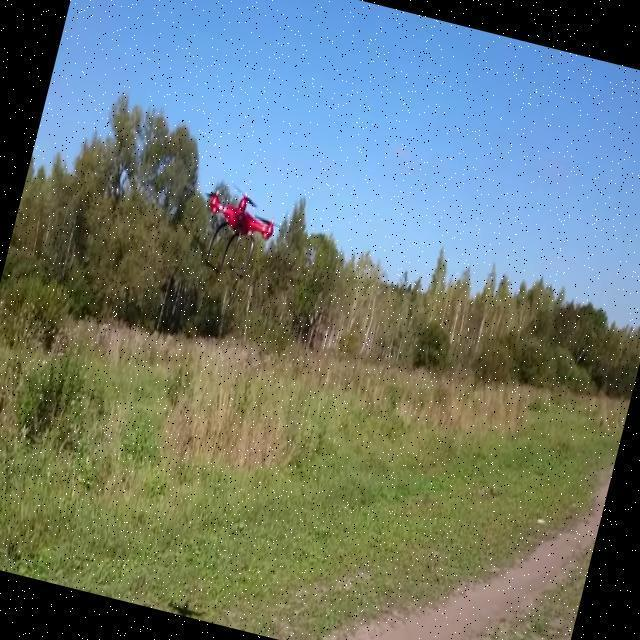Drons: (178, 167, 292, 292)
